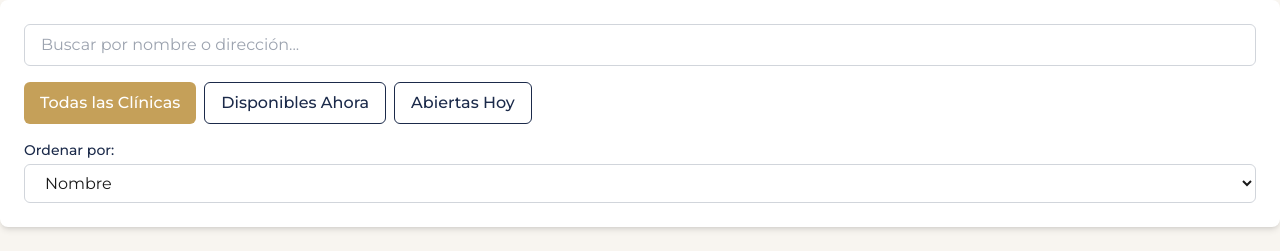
Test: ClinicSearchFilter › Clear Filters Functionality › should reset all filters when clear button is clicked
Note: Set search value
In the field with placeholder "Buscar por nombre o dirección...": (640, 45) [24, 24, 1256, 66], type "Test Clinic"
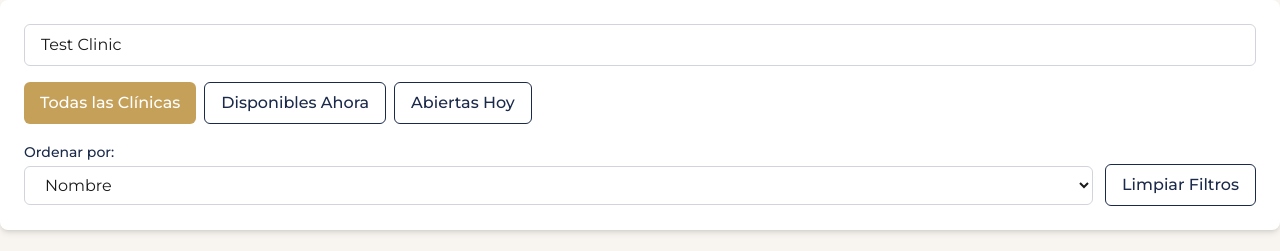
Note: Set filter
Click the button "Disponibles Ahora": click(295, 103) [204, 82, 386, 124]
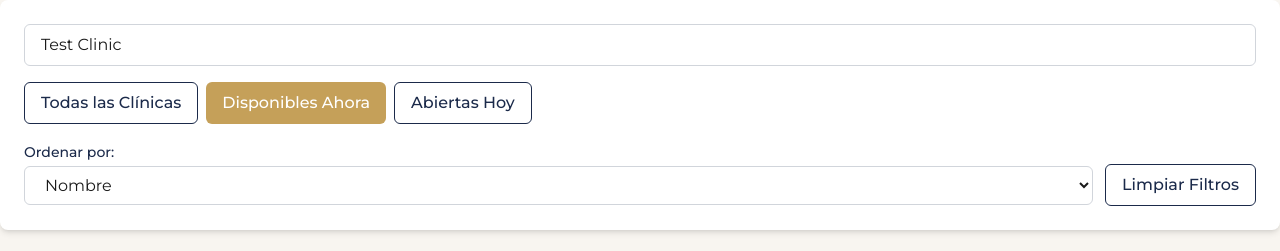
Note: Set sort
Select "Distancia" in the dropdown named "Ordenar clínicas": (559, 185) [24, 166, 1093, 204]
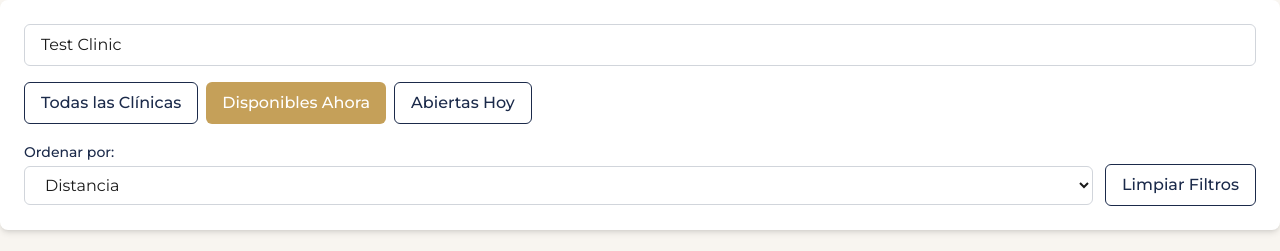
Note: Clear filters
Click the button with aria-label "Limpiar todos los filtros": click(1181, 185) [1105, 164, 1256, 206]
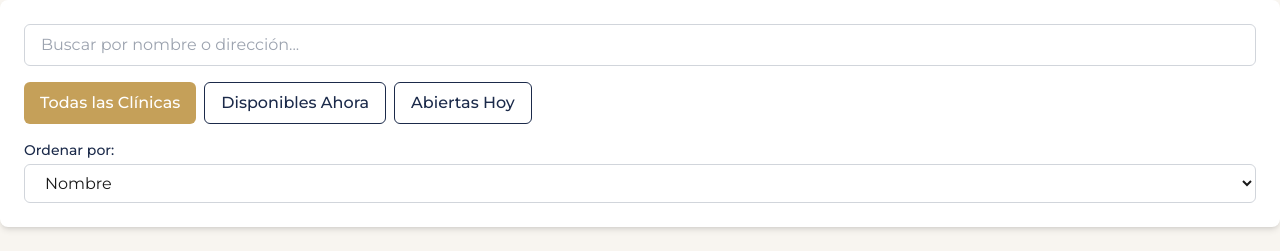
expect the field with placeholder "Buscar por nombre o dirección..." is empty: met, box [24, 24, 1256, 66]
